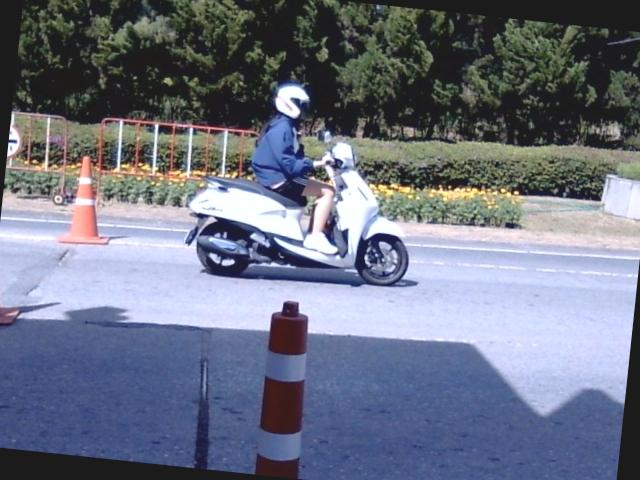helmet: (270, 79, 313, 124)
motor: (184, 142, 408, 285)
person: (251, 86, 336, 253)
